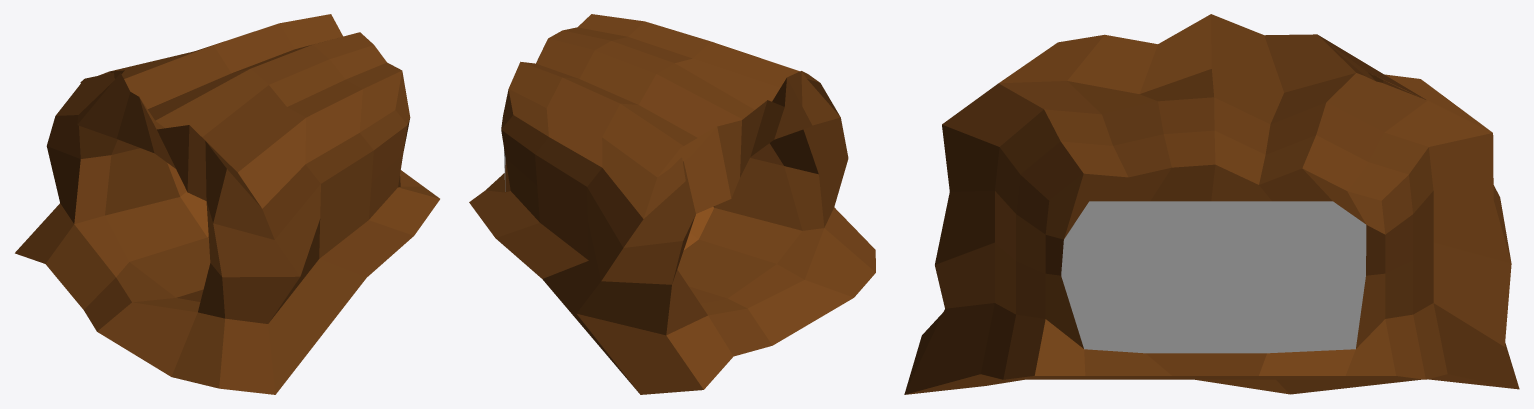
The model's file is CavernExit1.glb.
The picture shows the model from 3 angles, left to right: view 1: azimuth 30°, elevation 25°; view 2: azimuth 150°, elevation 25°; view 3: azimuth 270°, elevation 25°; orthographic projection. The views are drawn at different scales.
Visible parts, largest first — view 1: Cube; view 2: Cube; view 3: Cube.
Boxes of the visible parts, left/top/right/bottom form: Cube: left=15, top=14, right=439, bottom=394; Cube: left=469, top=14, right=875, bottom=394; Cube: left=904, top=14, right=1519, bottom=394.
Bounding box in the file's own units: 2.37 × 1.81 × 2.69.
